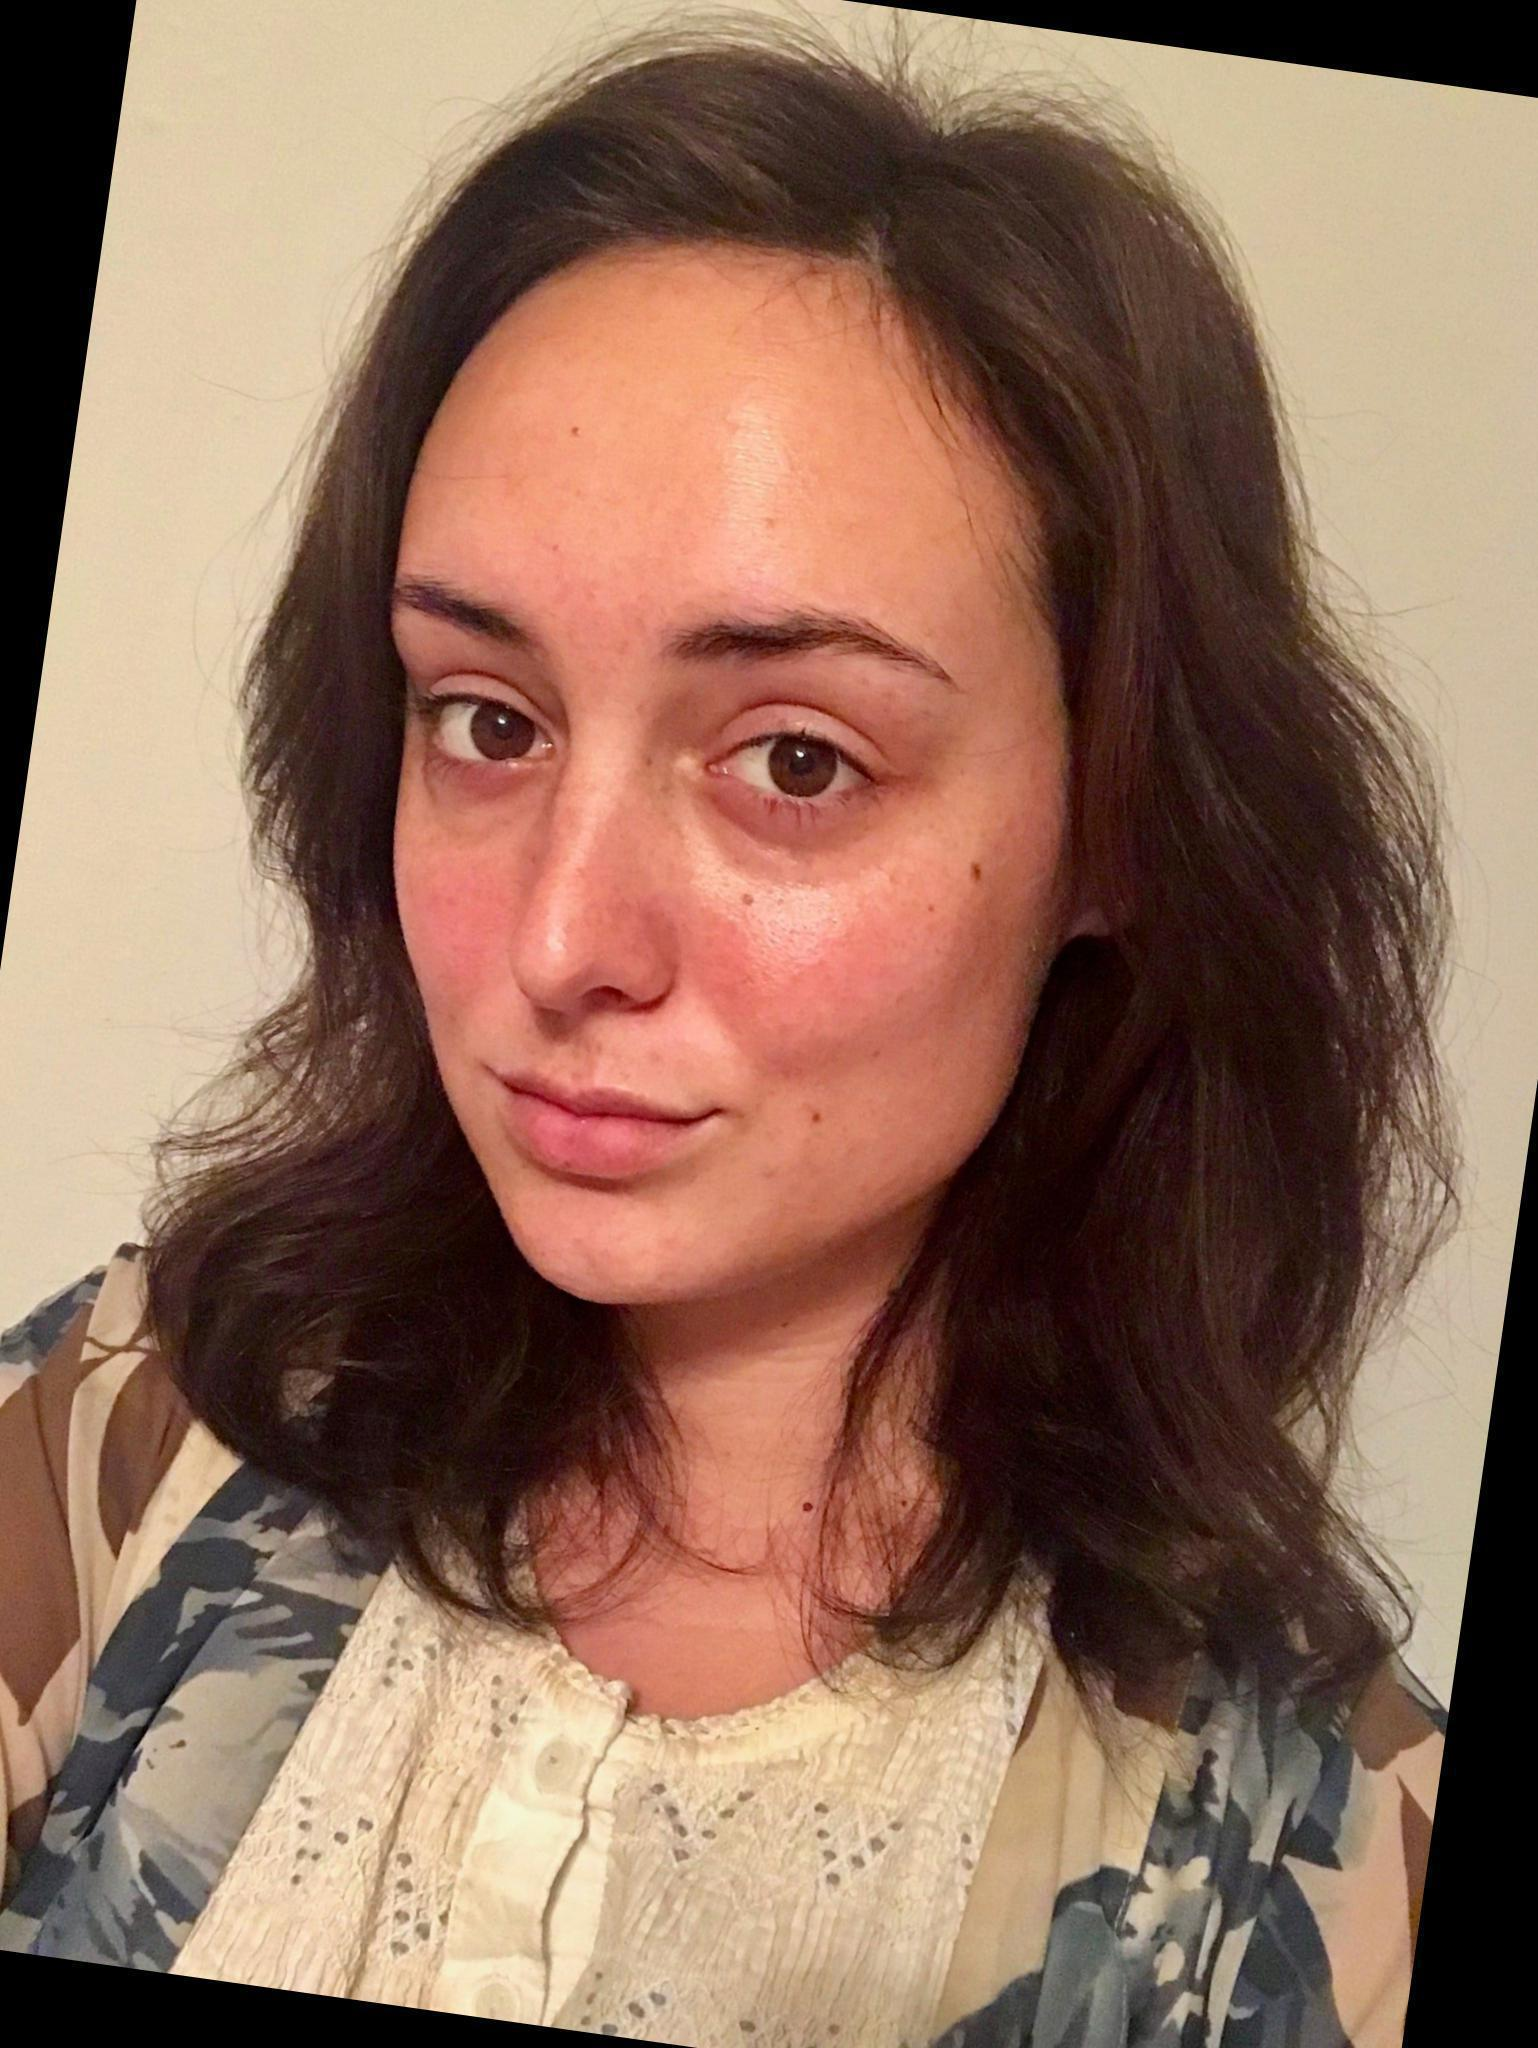Drunk: (417, 341, 1040, 1299)
